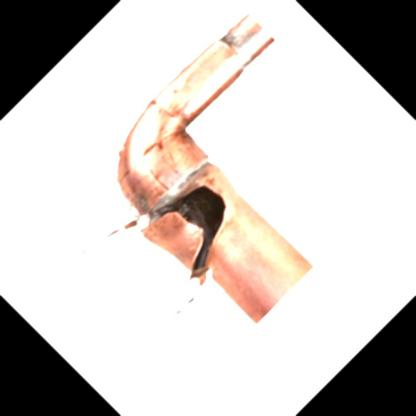burst: (113, 176, 242, 299)
